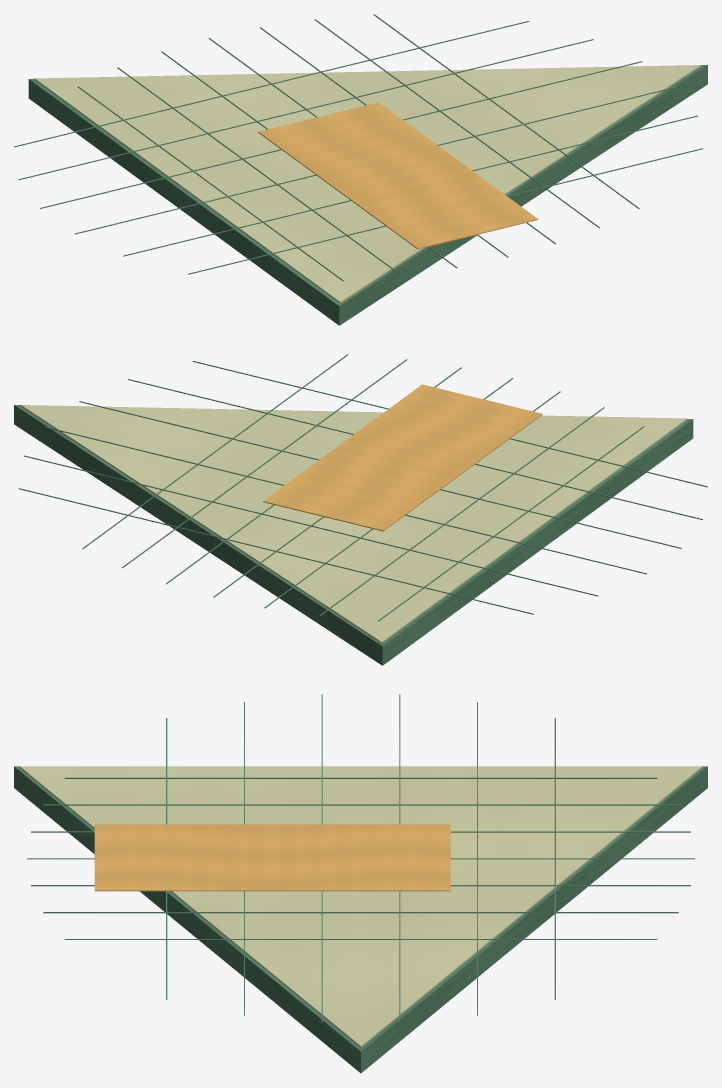
File: atlas100-s006-a07.lod2.glb
3 views of the same model, one above another, from view 1: azimuth 30°, elevation 25°; view 2: azimuth 150°, elevation 25°; view 3: azimuth 270°, elevation 25° (orthographic). The views are drawn at different scales.
Parts seen in each view (by area): view 1: atlas100-s006-a07:part-001, atlas100-s006-a07:part-021, atlas100-s006-a07:part-000, atlas100-s006-a07:part-015, atlas100-s006-a07:part-014, atlas100-s006-a07:part-017, atlas100-s006-a07:part-016, atlas100-s006-a07:part-018, atlas100-s006-a07:part-019, atlas100-s006-a07:part-005, atlas100-s006-a07:part-009, atlas100-s006-a07:part-004 (+1 smaller); view 2: atlas100-s006-a07:part-001, atlas100-s006-a07:part-021, atlas100-s006-a07:part-000, atlas100-s006-a07:part-015, atlas100-s006-a07:part-014, atlas100-s006-a07:part-016, atlas100-s006-a07:part-017, atlas100-s006-a07:part-018, atlas100-s006-a07:part-019, atlas100-s006-a07:part-005, atlas100-s006-a07:part-009, atlas100-s006-a07:part-004 (+1 smaller); view 3: atlas100-s006-a07:part-001, atlas100-s006-a07:part-021, atlas100-s006-a07:part-000, atlas100-s006-a07:part-005, atlas100-s006-a07:part-009, atlas100-s006-a07:part-004, atlas100-s006-a07:part-007, atlas100-s006-a07:part-006, atlas100-s006-a07:part-008, atlas100-s006-a07:part-010.
Part boxes in pixels (bbox=[...]): atlas100-s006-a07:part-001: bbox=[34, 65, 700, 303]; atlas100-s006-a07:part-021: bbox=[258, 102, 538, 249]; atlas100-s006-a07:part-000: bbox=[28, 65, 707, 325]; atlas100-s006-a07:part-015: bbox=[19, 39, 593, 179]; atlas100-s006-a07:part-014: bbox=[14, 21, 529, 147]; atlas100-s006-a07:part-017: bbox=[74, 86, 677, 234]; atlas100-s006-a07:part-016: bbox=[40, 61, 642, 208]; atlas100-s006-a07:part-018: bbox=[123, 115, 697, 256]; atlas100-s006-a07:part-019: bbox=[188, 148, 703, 274]; atlas100-s006-a07:part-005: bbox=[117, 67, 402, 276]; atlas100-s006-a07:part-009: bbox=[314, 19, 599, 228]; atlas100-s006-a07:part-004: bbox=[77, 86, 343, 281]; atlas100-s006-a07:part-001: bbox=[21, 405, 687, 643]; atlas100-s006-a07:part-021: bbox=[263, 384, 542, 531]; atlas100-s006-a07:part-000: bbox=[14, 405, 693, 665]; atlas100-s006-a07:part-015: bbox=[24, 455, 598, 596]; atlas100-s006-a07:part-014: bbox=[18, 488, 533, 614]; atlas100-s006-a07:part-016: bbox=[44, 426, 647, 574]; atlas100-s006-a07:part-017: bbox=[79, 401, 681, 548]; atlas100-s006-a07:part-018: bbox=[128, 379, 702, 519]; atlas100-s006-a07:part-019: bbox=[192, 361, 707, 487]; atlas100-s006-a07:part-005: bbox=[319, 407, 604, 616]; atlas100-s006-a07:part-009: bbox=[122, 359, 407, 568]; atlas100-s006-a07:part-004: bbox=[378, 426, 644, 621]; atlas100-s006-a07:part-001: bbox=[19, 766, 702, 1047]; atlas100-s006-a07:part-021: bbox=[94, 824, 450, 891]; atlas100-s006-a07:part-000: bbox=[14, 766, 707, 1073]; atlas100-s006-a07:part-005: bbox=[43, 804, 678, 805]; atlas100-s006-a07:part-009: bbox=[43, 912, 678, 913]; atlas100-s006-a07:part-004: bbox=[64, 777, 657, 778]; atlas100-s006-a07:part-007: bbox=[27, 858, 694, 859]; atlas100-s006-a07:part-006: bbox=[31, 831, 690, 832]; atlas100-s006-a07:part-008: bbox=[31, 885, 690, 886]; atlas100-s006-a07:part-010: bbox=[64, 939, 657, 939].
Size of the model in its own units: 11.87 by 0.404 by 9.82.
3 materials, 3 textured.
